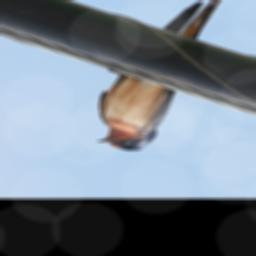Swallow: (96, 0, 242, 152)
